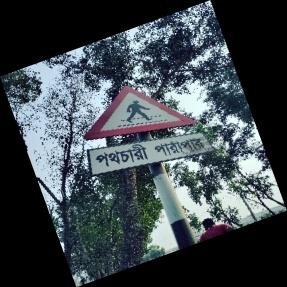Pedestrian-crossing: (84, 85, 212, 178)
